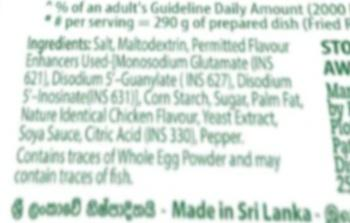ingredients: (19, 28, 307, 193)
